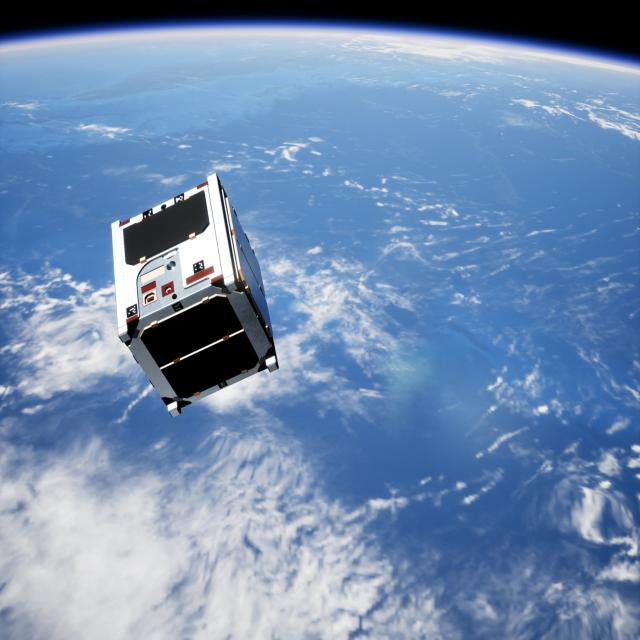medium_debris: (108, 170, 289, 425)
